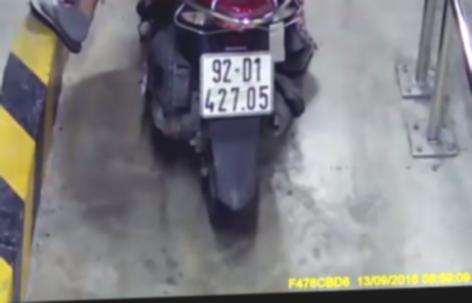License_Plate: (190, 47, 279, 123)
